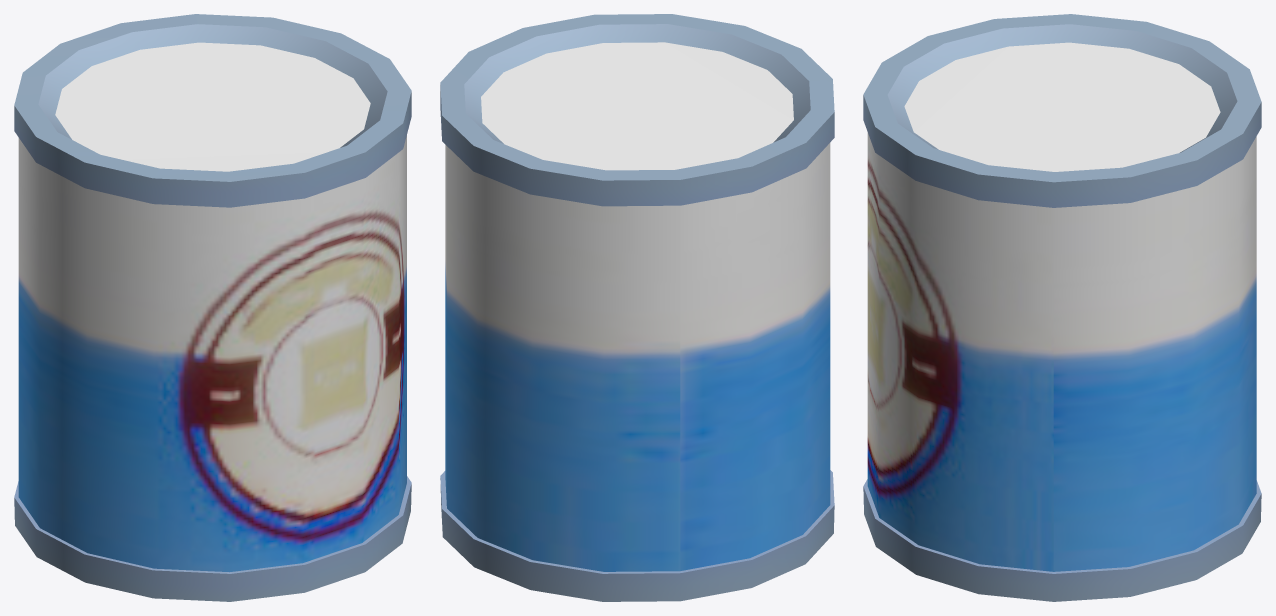
The picture shows the model from 3 angles, left to right: view 1: azimuth 30°, elevation 25°; view 2: azimuth 150°, elevation 25°; view 3: azimuth 270°, elevation 25°; orthographic projection.
Parts seen in each view (by area): view 1: 1-1; view 2: 1-1; view 3: 1-1.
Boxes of the visible parts, x1,y1,x2,y2 form: 1-1: [14, 14, 411, 601]; 1-1: [440, 14, 834, 601]; 1-1: [863, 14, 1261, 601].
Size of the model in its own units: 8.41 by 9.78 by 8.41.
